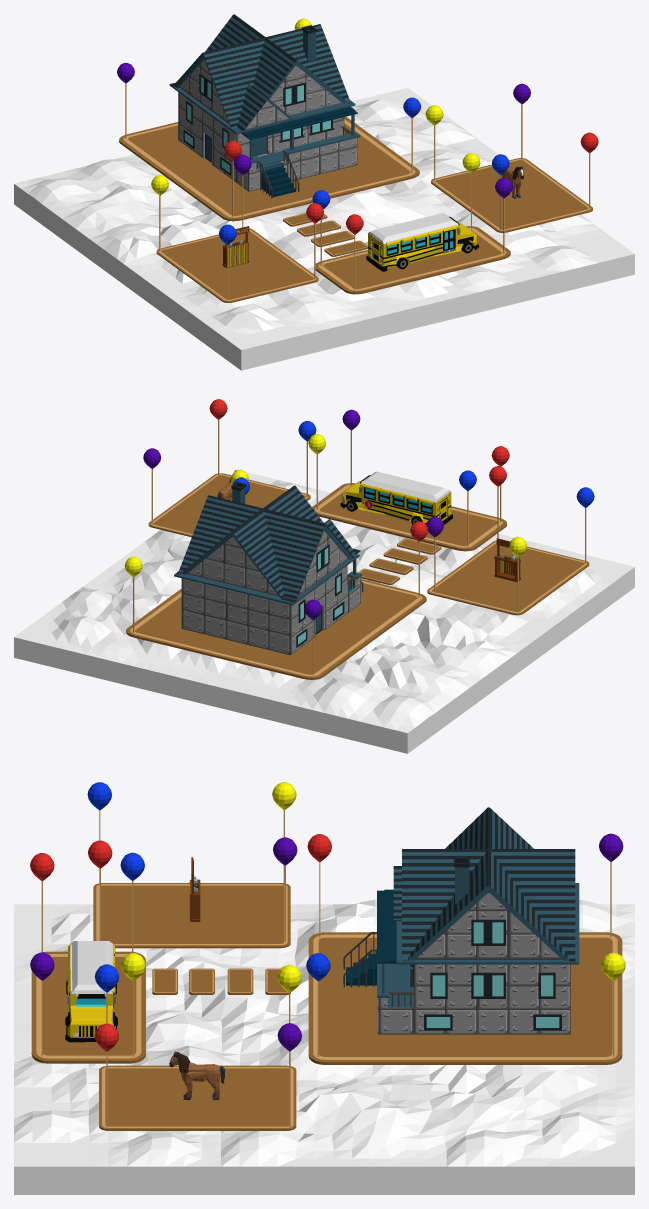
3 renders of one model, top to bottom at view 1: azimuth 30°, elevation 25°; view 2: azimuth 150°, elevation 25°; view 3: azimuth 270°, elevation 25°, orthographic. The views are drawn at different scales.
Parts seen in each view (by area): view 1: Cube.013, Cube.078, VEHICLES_SCHOOL_BUS, OBJRANDOM_LEMONADE_STAND; view 2: Cube.013, Cube.078, VEHICLES_SCHOOL_BUS, OBJRANDOM_LEMONADE_STAND; view 3: Cube.013, Cube.078, VEHICLES_SCHOOL_BUS, ANIMAL_CABALLO, OBJRANDOM_LEMONADE_STAND.
Boxes of the visible parts, x1,y1,x2,y2 form: Cube.013: (14, 18, 634, 370); Cube.078: (169, 14, 360, 198); VEHICLES_SCHOOL_BUS: (366, 213, 478, 271); OBJRANDOM_LEMONADE_STAND: (222, 226, 249, 268); Cube.013: (14, 399, 634, 753); Cube.078: (174, 482, 363, 655); VEHICLES_SCHOOL_BUS: (340, 471, 452, 524); OBJRANDOM_LEMONADE_STAND: (494, 538, 520, 581); Cube.013: (14, 782, 634, 1194); Cube.078: (343, 807, 579, 1034); VEHICLES_SCHOOL_BUS: (65, 941, 117, 1042); ANIMAL_CABALLO: (169, 1051, 224, 1100); OBJRANDOM_LEMONADE_STAND: (189, 857, 200, 921).
Bounding box in the file's own units: 4000 × 1711 × 4000.
Materials: 41 (4 with a texture image).
